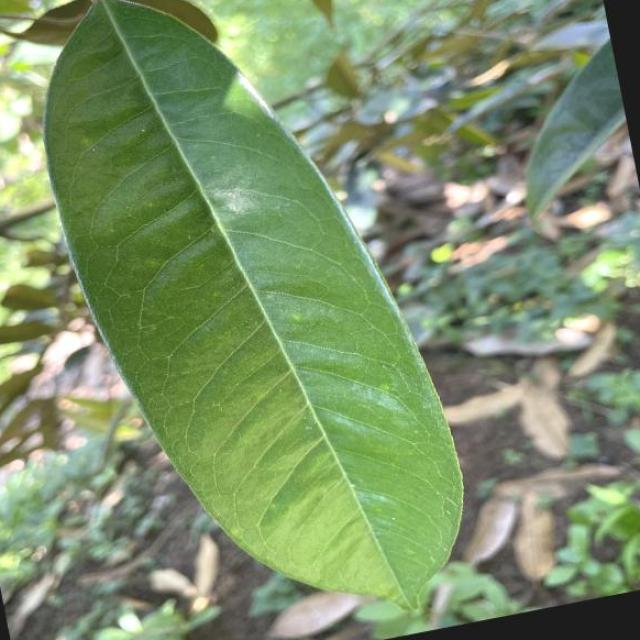No Disease: (10, 0, 497, 640)
